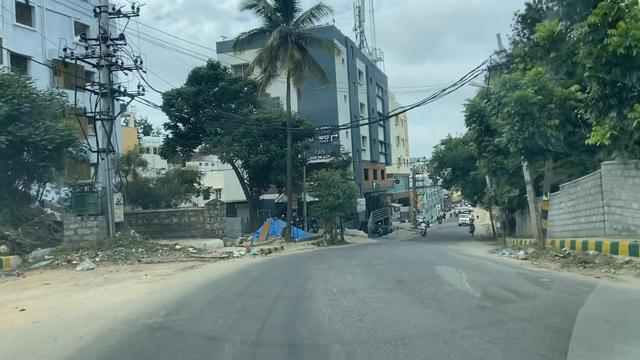RoadDamages: (422, 255, 528, 316)
